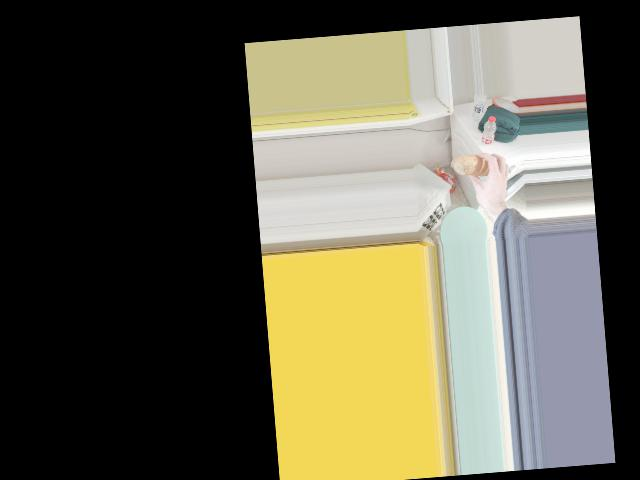sweet_potato: (462, 156, 500, 188)
